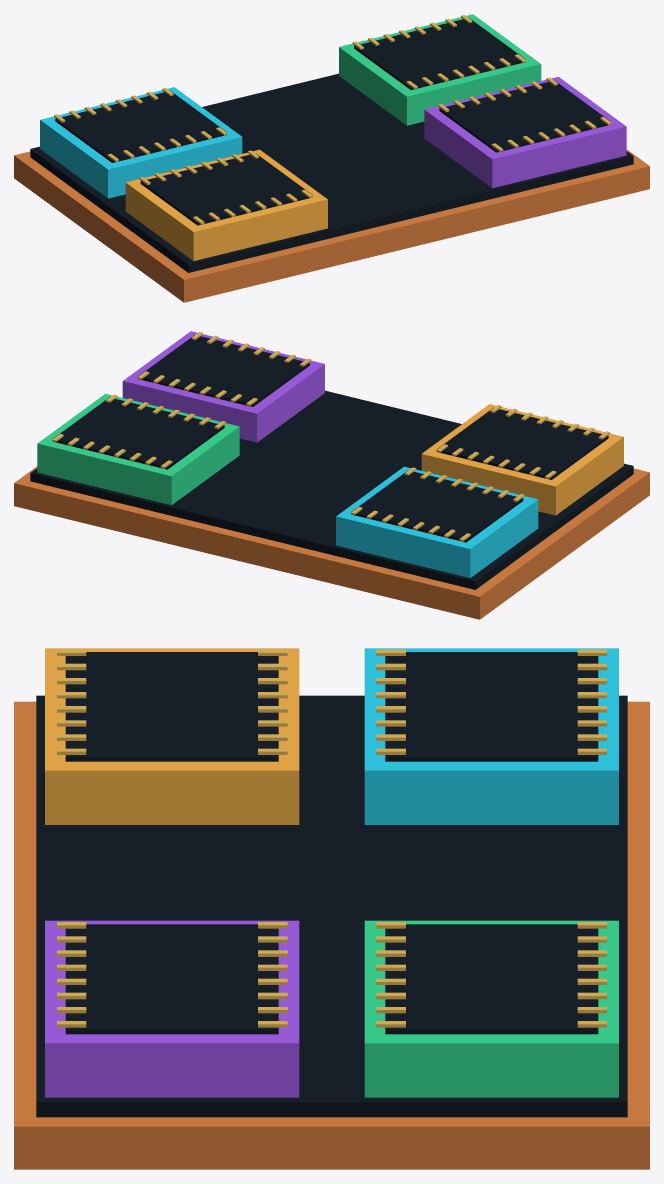
The model's file is 03_L80_BondedFourChipletElectronicAssembly.fbx.
3 views of the same model, one above another, from view 1: azimuth 30°, elevation 25°; view 2: azimuth 150°, elevation 25°; view 3: azimuth 270°, elevation 25° (orthographic). The views are drawn at different scales.
Parts seen in each view (by area): view 1: BondedFourChipletElectronicAssembly; view 2: BondedFourChipletElectronicAssembly; view 3: BondedFourChipletElectronicAssembly.
Part boxes in pixels (<box>): BondedFourChipletElectronicAssembly: <box>14,14,649,302</box>; BondedFourChipletElectronicAssembly: <box>14,331,649,619</box>; BondedFourChipletElectronicAssembly: <box>14,648,649,1169</box>.
Size of the model in its own units: 340 by 48.35 by 215.
